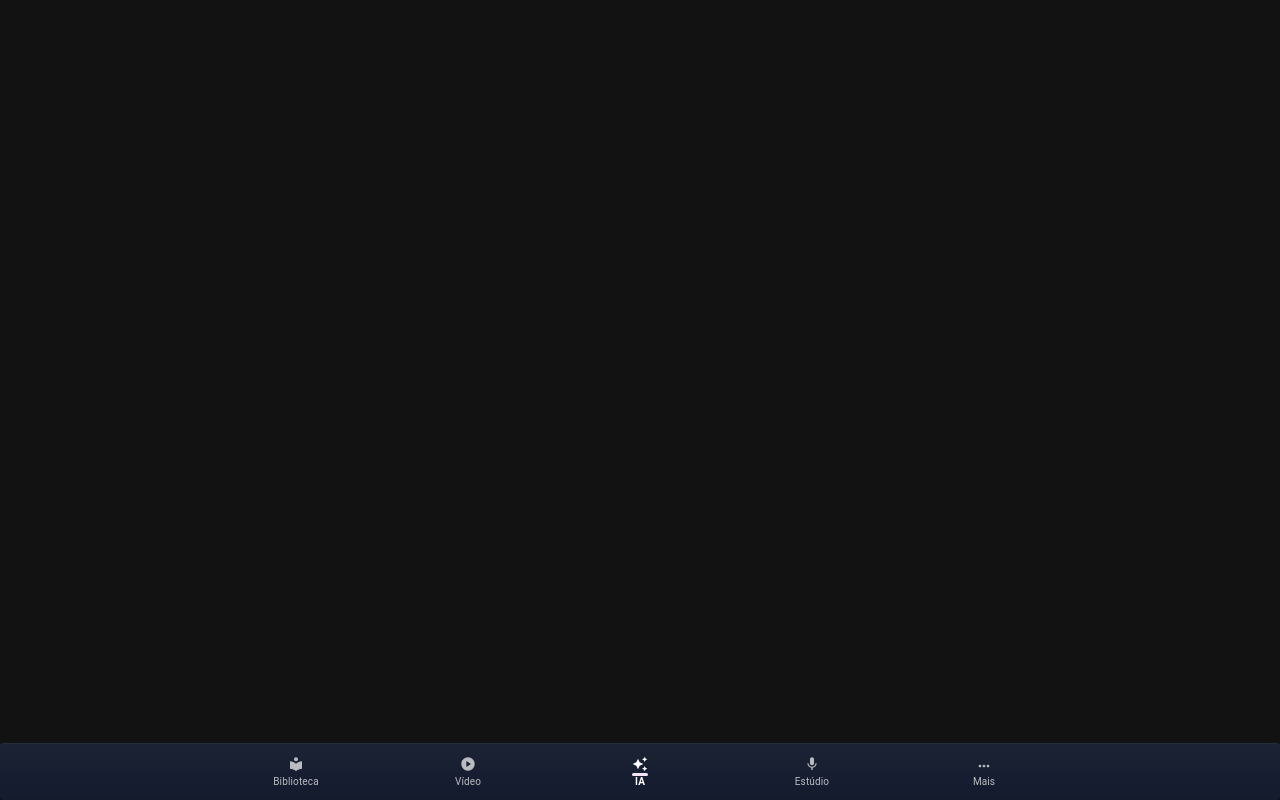
Test: MobileBottomNav — exclusão de conta (dialog local) › clicar em "Excluir conta" fecha o drawer lateral
Click the button with aria-label "Abrir menu".
click(984, 772)  # box [900,744,1068,799]
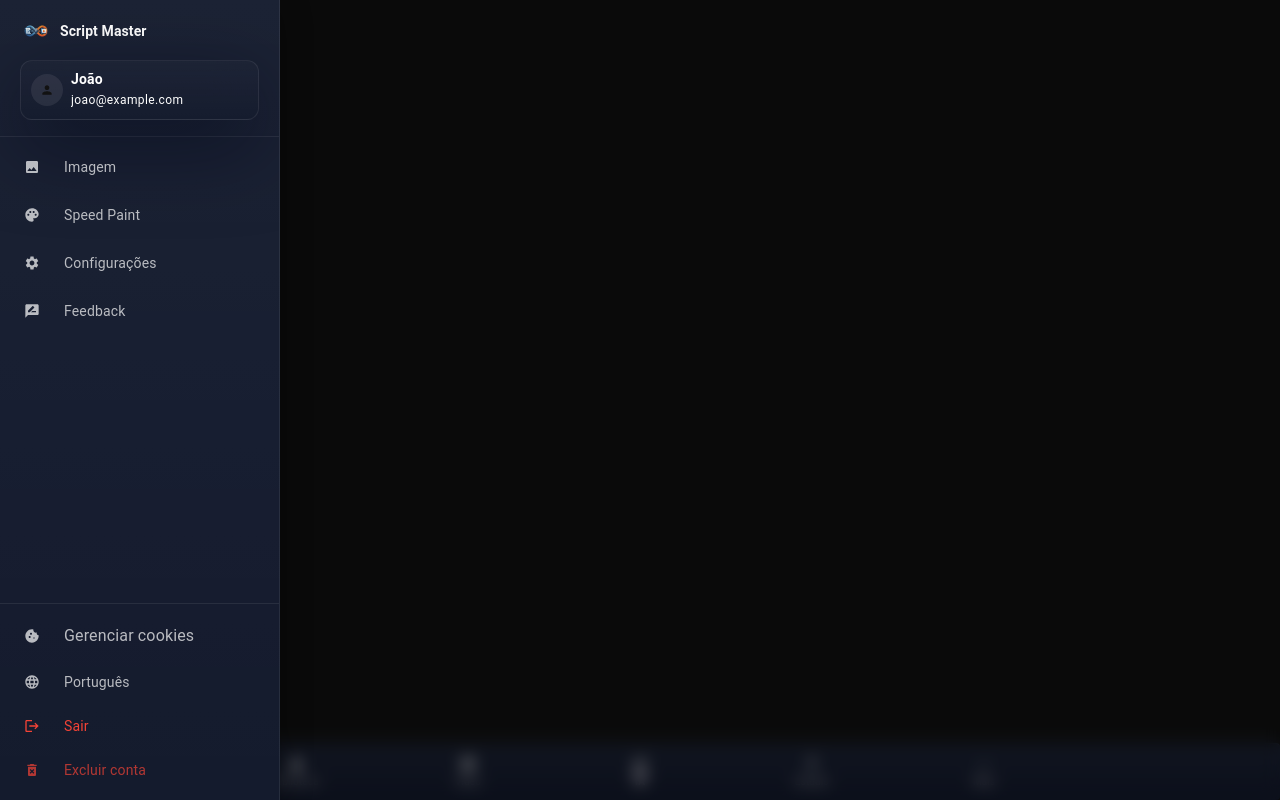
Click the button "Excluir conta".
click(85, 770)  # box [24,762,146,778]
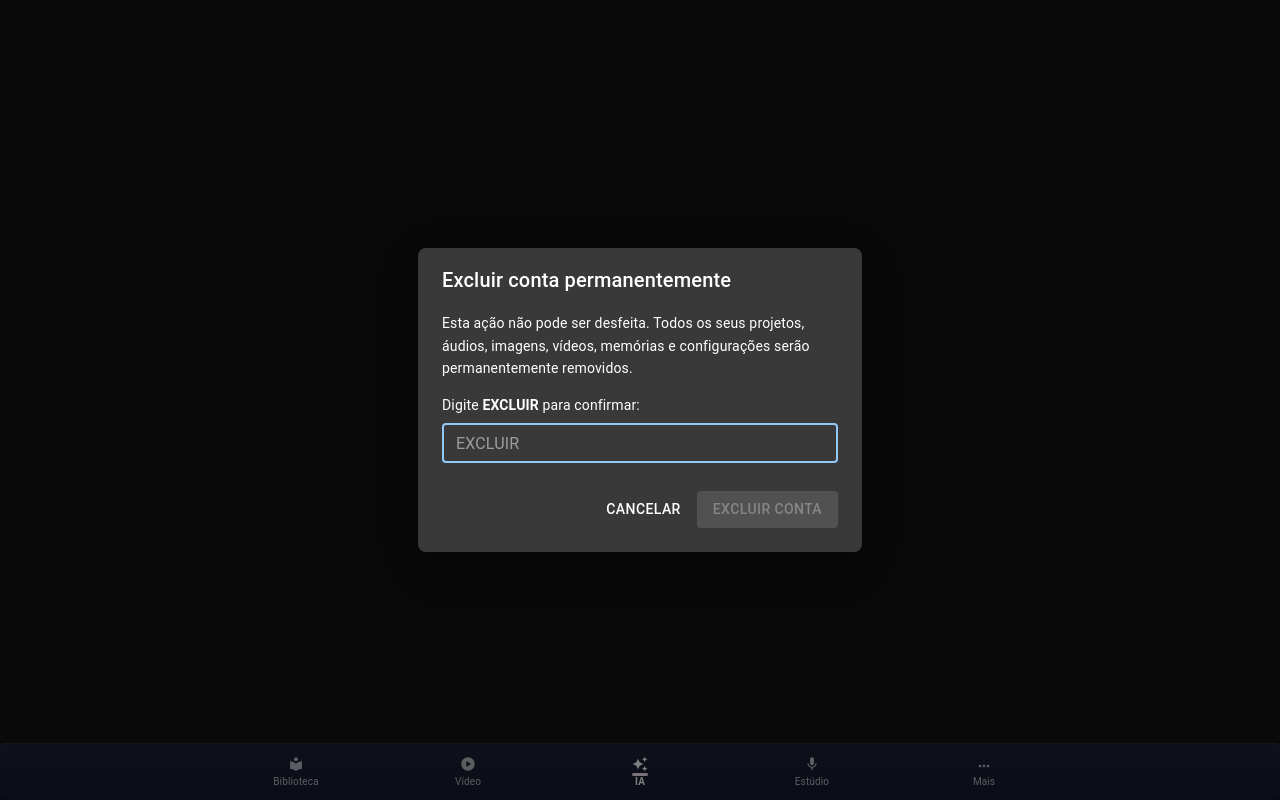
Expected: the button with aria-label "Abrir menu" is collapsed, [900,744,1068,799]
